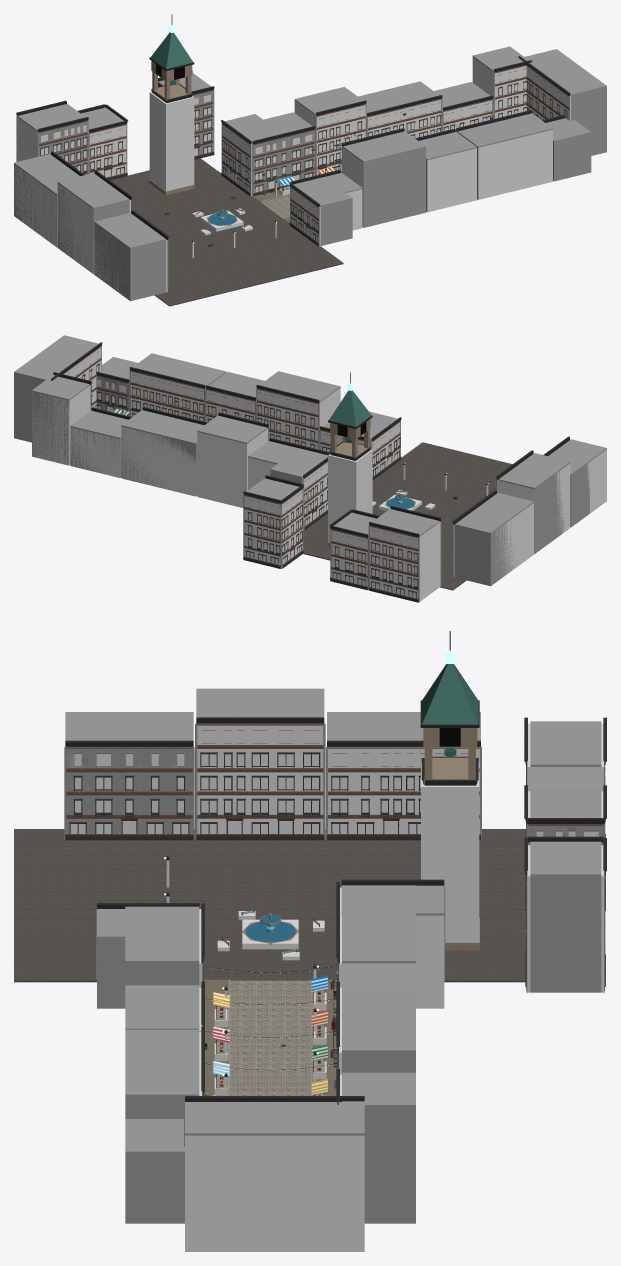
File: saltlight_row.glb
The picture shows the model from 3 angles, top to bottom: view 1: azimuth 30°, elevation 25°; view 2: azimuth 150°, elevation 25°; view 3: azimuth 270°, elevation 25°; orthographic projection. The views are drawn at different scales.
Parts seen in each view (by area): view 1: ROW_plaza, GROUND, ROW_lane_south, ROW_lane_north, COL_tower, COL_S3, COL_S2, LANDMARK_ledger_tower, COL_W1, COL_W2, COL_N1, COL_N4 (+13 smaller); view 2: ROW_plaza, ROW_lane_north, ROW_lane_south, GROUND, COL_P0, COL_N2, COL_N1, COL_N4, COL_S1, COL_tower, LANDMARK_ledger_tower, COL_S3 (+13 smaller); view 3: ROW_plaza, GROUND, ROW_lane_south, ROW_lane_north, COL_E0, COL_W1, COL_tower, COL_W2, LANDMARK_ledger_tower, COL_C0, COL_W0, STALLS (+4 smaller).
Boxes of the visible parts, bbox=[...] form: ROW_plaza: bbox=[14, 49, 606, 301]; GROUND: bbox=[110, 158, 343, 306]; ROW_lane_south: bbox=[290, 110, 591, 227]; ROW_lane_north: bbox=[232, 46, 531, 196]; COL_tower: bbox=[149, 92, 194, 191]; COL_S3: bbox=[478, 130, 552, 199]; COL_S2: bbox=[427, 148, 476, 212]; LANDMARK_ledger_tower: bbox=[149, 14, 194, 195]; COL_W1: bbox=[57, 183, 130, 273]; COL_W2: bbox=[14, 164, 56, 246]; COL_N1: bbox=[294, 100, 365, 174]; COL_N4: bbox=[472, 57, 526, 118]; ROW_plaza: bbox=[14, 335, 606, 602]; ROW_lane_north: bbox=[32, 372, 329, 496]; ROW_lane_south: bbox=[96, 353, 389, 450]; GROUND: bbox=[303, 442, 512, 590]; COL_P0: bbox=[370, 521, 440, 601]; COL_N2: bbox=[121, 426, 195, 496]; COL_N1: bbox=[197, 428, 268, 507]; COL_N4: bbox=[32, 385, 90, 465]; COL_S1: bbox=[257, 388, 340, 449]; COL_tower: bbox=[328, 449, 372, 542]; LANDMARK_ledger_tower: bbox=[327, 372, 372, 546]; COL_S3: bbox=[130, 371, 205, 421]; ROW_plaza: bbox=[64, 688, 606, 1146]; GROUND: bbox=[14, 829, 525, 1095]; ROW_lane_south: bbox=[125, 903, 204, 1223]; ROW_lane_north: bbox=[336, 882, 415, 1223]; COL_E0: bbox=[185, 1135, 364, 1251]; COL_W1: bbox=[197, 723, 323, 833]; COL_tower: bbox=[421, 762, 479, 942]; COL_W2: bbox=[328, 747, 479, 833]; LANDMARK_ledger_tower: bbox=[420, 631, 479, 949]; COL_C0: bbox=[416, 915, 444, 1008]; COL_W0: bbox=[70, 754, 188, 833]; STALLS: bbox=[213, 976, 327, 1095].
Size of the model in its own units: 123 by 39.95 by 69.33.
Materials: 101 (62 with a texture image).
